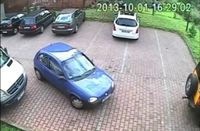car: (34, 42, 115, 108), (51, 6, 86, 34), (111, 12, 140, 39)
